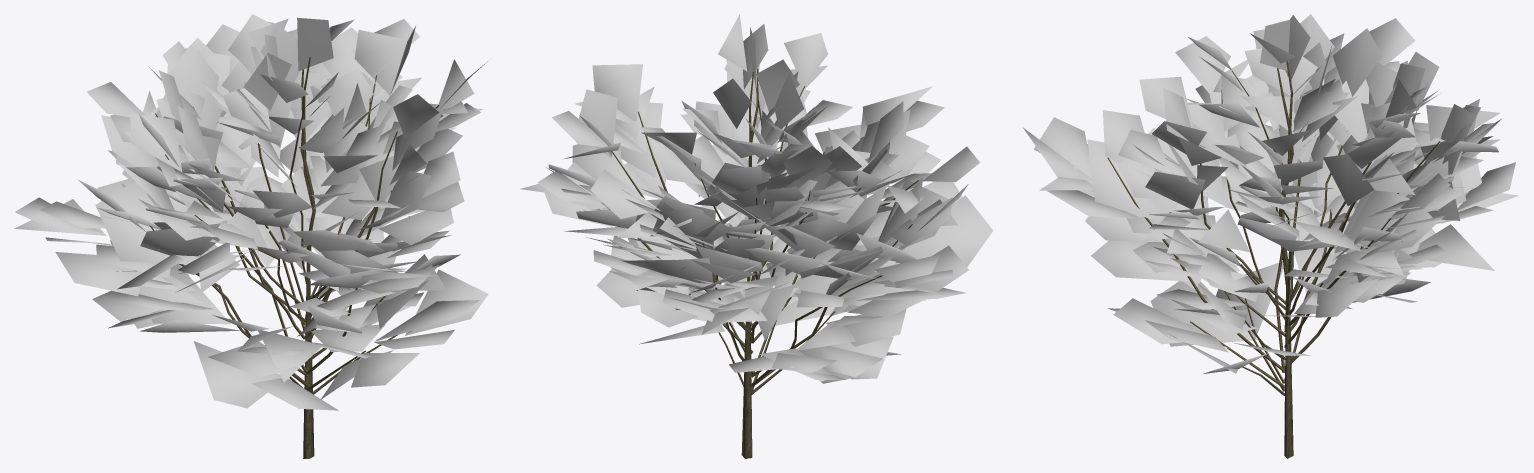
Rendered from Tree_Sm_07_2_L3.fbx.
3 views of the same model, side by side, from view 1: azimuth 30°, elevation 25°; view 2: azimuth 150°, elevation 25°; view 3: azimuth 270°, elevation 25° (orthographic). The views are drawn at different scales.
Visible parts, largest first — view 1: polySurface49; view 2: polySurface49; view 3: polySurface49.
Part boxes in pixels (x1=…): polySurface49: x1=14, y1=14, x2=488, y2=458; polySurface49: x1=520, y1=14, x2=993, y2=458; polySurface49: x1=1023, y1=14, x2=1518, y2=458.
Bounding box in the file's own units: 591 × 568 × 586.
